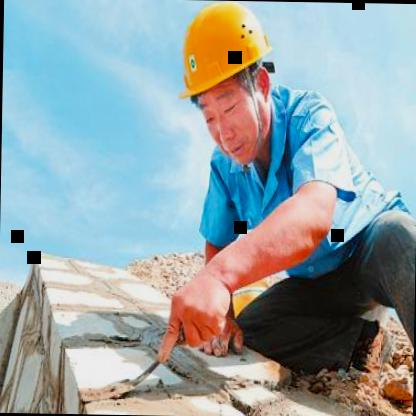helmet: (161, 0, 282, 170)
